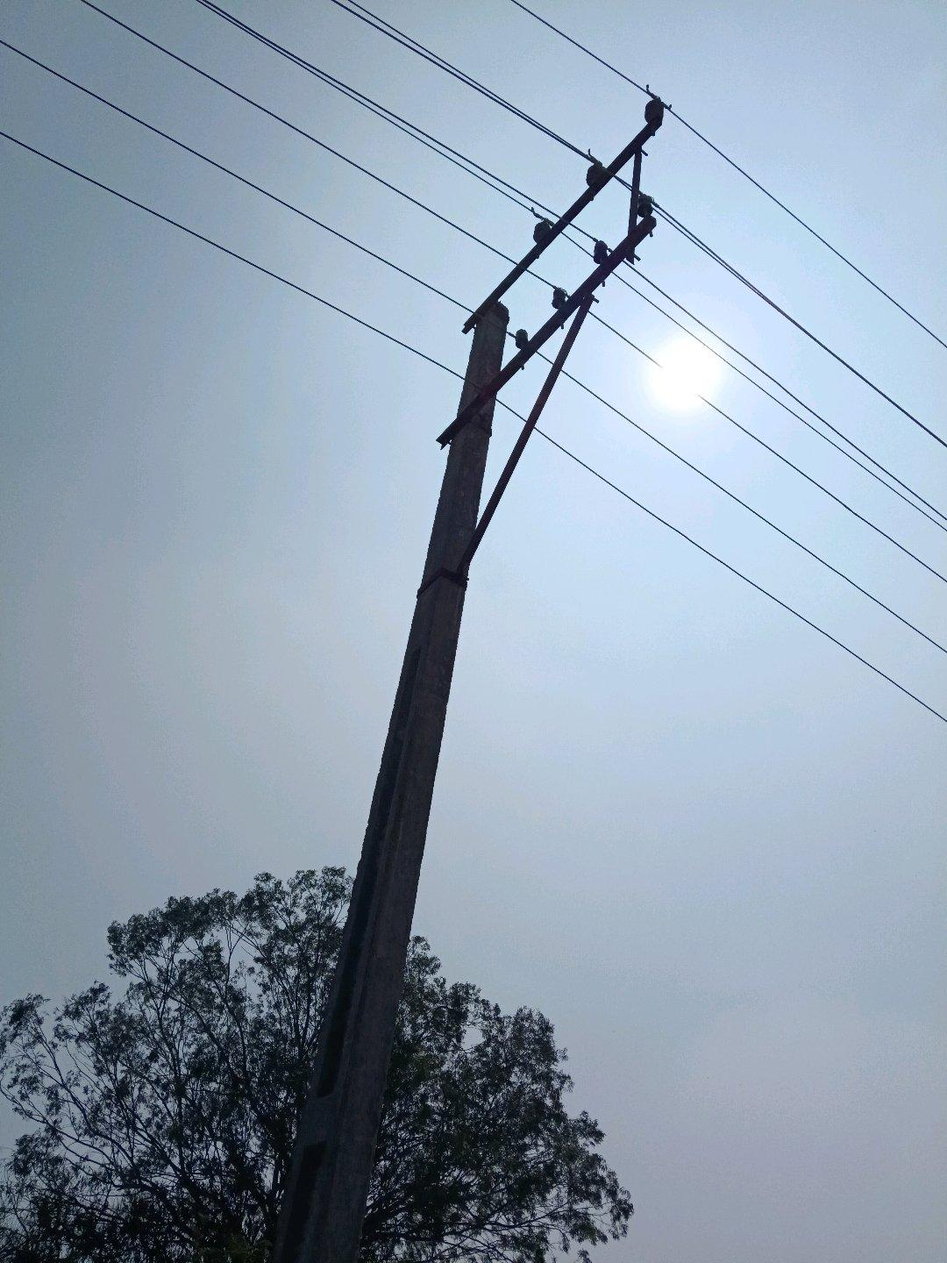{"0" "insulator", "1" "pole", "2" "crossarm", "3" "conductor", "4" "street_: (273, 98, 664, 1262), (533, 415, 535, 418)
